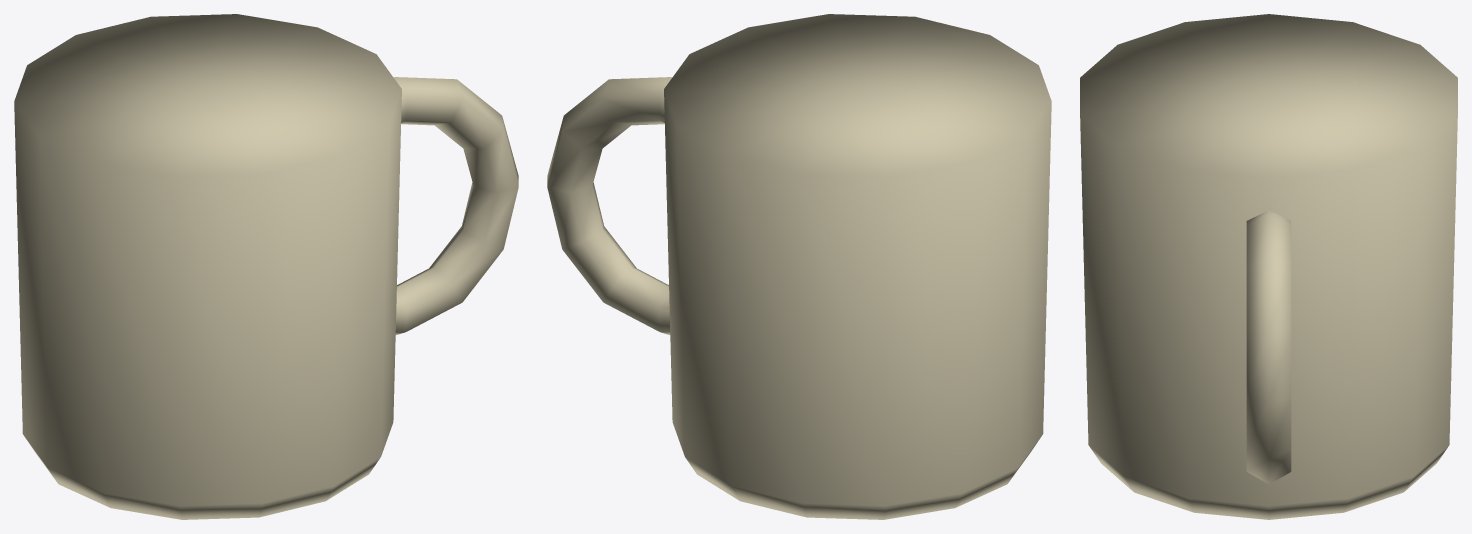
The model's file is Mugs.obj.
The picture shows the model from 3 angles, left to right: view 1: azimuth 30°, elevation 25°; view 2: azimuth 150°, elevation 25°; view 3: azimuth 270°, elevation 25°; orthographic projection.
Parts seen in each view (by area): view 1: Mugs; view 2: Mugs; view 3: Mugs.
Boxes of the visible parts, bbox=[...] form: Mugs: bbox=[14, 14, 518, 519]; Mugs: bbox=[547, 14, 1051, 519]; Mugs: bbox=[1080, 14, 1457, 519].
Size of the model in its own units: 0.128 by 0.09 by 0.0877.
